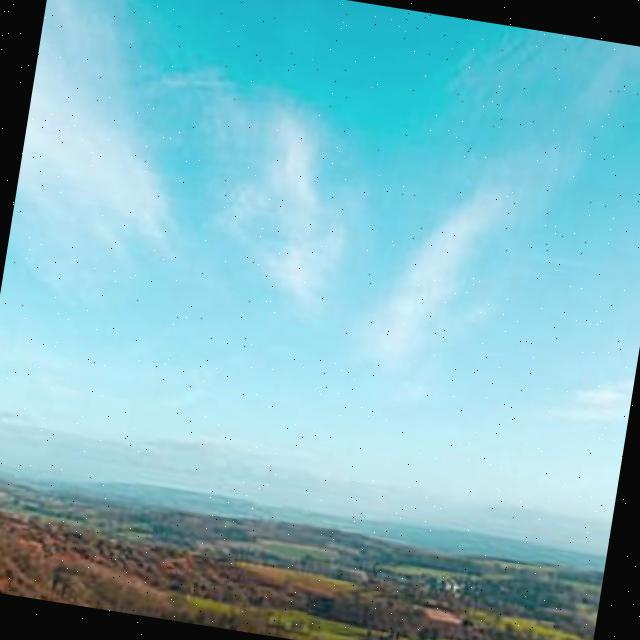Ci: (1, 1, 640, 498)
